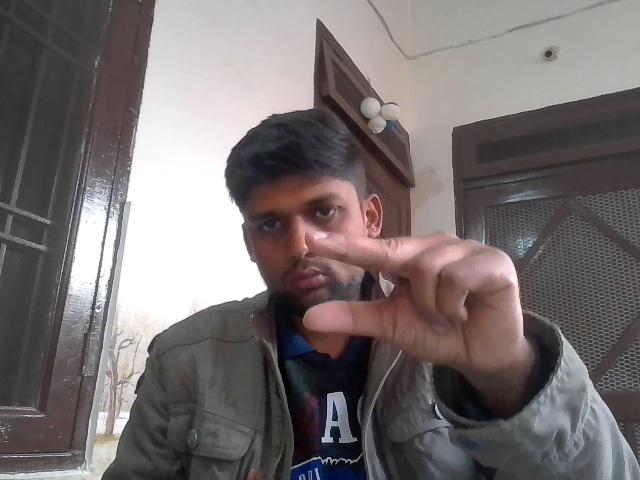No: (295, 222, 552, 398)
